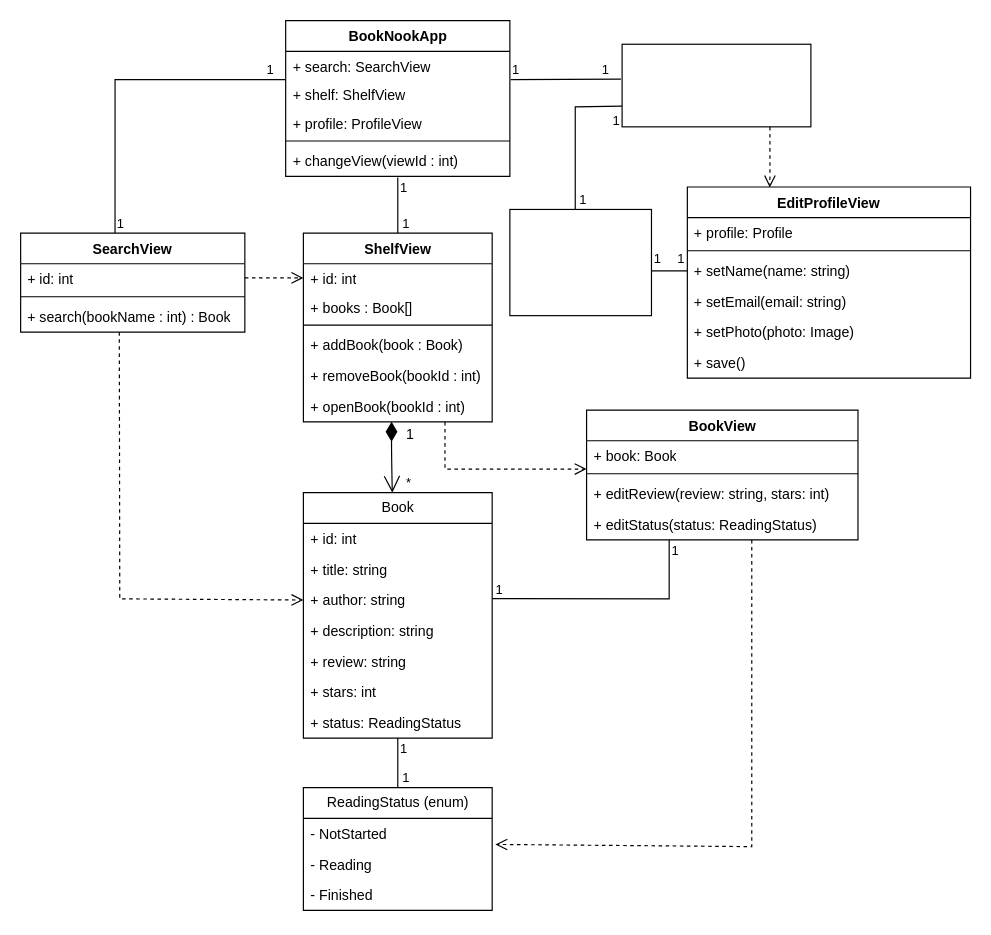
Some shapes in this 991 by 935 pixel diagram are drawn without their labels. Here are the shapes that lost their labels. From the top down, the centre of each, then its label:
At [716,85]: "ProfileView + id: int + profile: Profile".
At [580,262]: "Profile + id: int + name: string + email: string + photo: Image".
